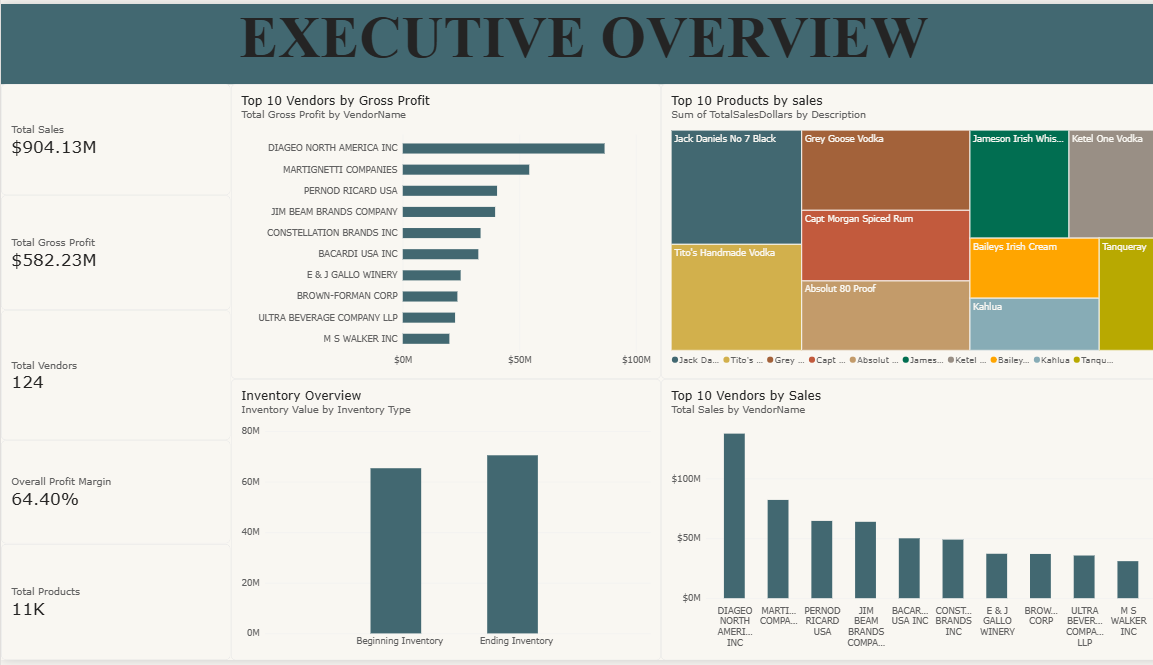

Layout of this report page (visuals, bound fields, positions):
{"tool":"powerbi","page":{"name":"Executive Overview","canvas":[1920,1080],"ordinal":0},"visuals":[{"type":"textbox","box":[0,0,1920.4,131.7],"z":0},{"type":"cardVisual","fields":{"Data":["Vendor_performance.Total Sales"]},"box":[0,131.7,378.7,183.2],"z":1000},{"type":"cardVisual","fields":{"Data":["Vendor_performance.Total Gross Profit"]},"box":[0,314.9,378.7,189.4],"z":2000},{"type":"cardVisual","fields":{"Data":["Vendor_performance.Overall Profit Margin"]},"box":[0,718.4,378.7,170.8],"z":3000},{"type":"cardVisual","fields":{"Data":["Vendor_performance.Total Vendors"]},"box":[0,504.3,378.7,214.1],"z":4000},{"type":"cardVisual","fields":{"Data":["Product_performance.Total Products"]},"box":[0,889.2,378.7,191.4],"z":5000},{"type":"clusteredColumnChart","title":"Top 10 Vendors by Sales","fields":{"Category":["Vendor_performance.VendorName"],"Y":["Vendor_performance.Total Sales"]},"box":[1086.8,617.5,833.6,463.1],"z":6000},{"type":"clusteredBarChart","title":"Top 10 Vendors by Gross Profit","fields":{"Category":["Vendor_performance.VendorName"],"Y":["Vendor_performance.Total Gross Profit"]},"box":[378.7,131.7,708.1,485.8],"z":7000},{"type":"treemap","title":"Top 10 Products by sales","fields":{"Group":["Product_performance.Description"],"Values":["Sum(Product_performance.TotalSalesDollars)"]},"box":[1086.8,131.7,833.6,485.8],"z":8000},{"type":"clusteredColumnChart","title":"Inventory Overview","fields":{"Category":["Inventory Type.Inventory Type"],"Y":["Inventory Type.Inventory Value"]},"box":[378.7,617.5,708.1,463.1],"z":9000}]}

Visuals, with their boxes in screenshot pixels (x1, y1, x2, y2), scaled from the page's 1920x1080 canvas onto the 1153x665 screenshot:
textbox: [left=0, top=0, right=1152, bottom=81]
cardVisual - Vendor_performance.Total Sales: [left=0, top=81, right=227, bottom=194]
cardVisual - Vendor_performance.Total Gross Profit: [left=0, top=194, right=227, bottom=311]
cardVisual - Vendor_performance.Overall Profit Margin: [left=0, top=442, right=227, bottom=548]
cardVisual - Vendor_performance.Total Vendors: [left=0, top=311, right=227, bottom=442]
cardVisual - Product_performance.Total Products: [left=0, top=548, right=227, bottom=664]
"Top 10 Vendors by Sales" clusteredColumnChart: [left=653, top=380, right=1152, bottom=664]
"Top 10 Vendors by Gross Profit" clusteredBarChart: [left=227, top=81, right=653, bottom=380]
"Top 10 Products by sales" treemap: [left=653, top=81, right=1152, bottom=380]
"Inventory Overview" clusteredColumnChart: [left=227, top=380, right=653, bottom=664]
